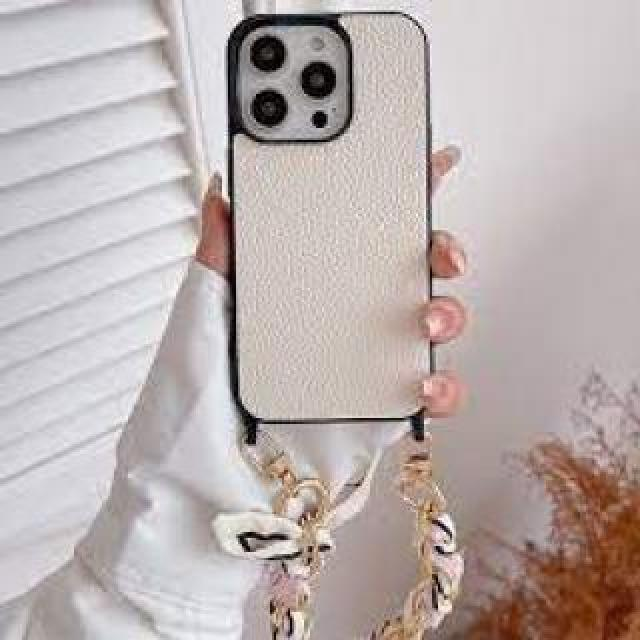smart phone: (215, 0, 465, 455)
